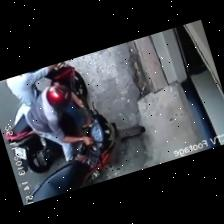person: (25, 85, 91, 162), (5, 63, 60, 125)
